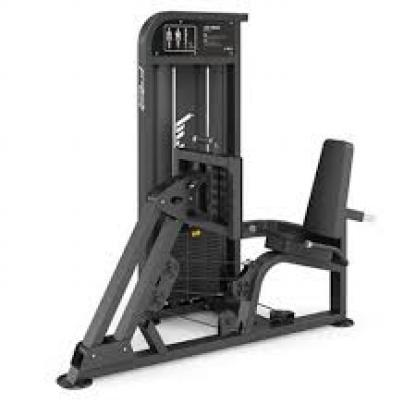leg press: (30, 11, 380, 396)
